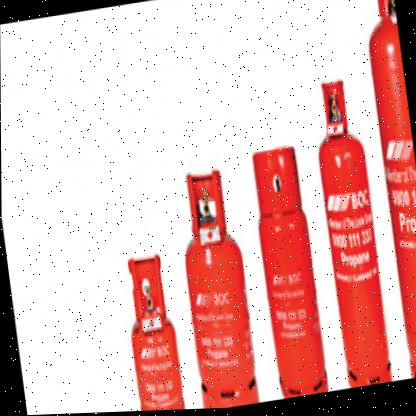gas-tank: (300, 72, 397, 390), (161, 151, 266, 410), (241, 134, 334, 401), (353, 0, 415, 382), (113, 247, 192, 412)
